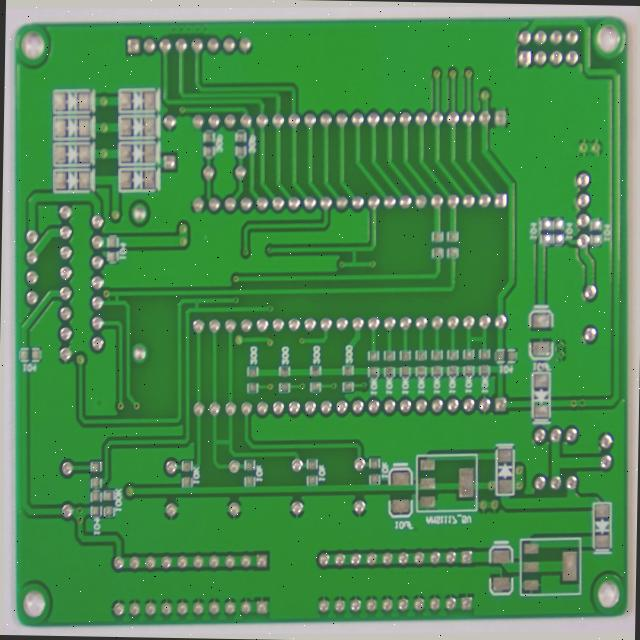short: (347, 240, 367, 270), (207, 431, 233, 451), (465, 336, 491, 349), (188, 291, 204, 312), (108, 283, 123, 302)
